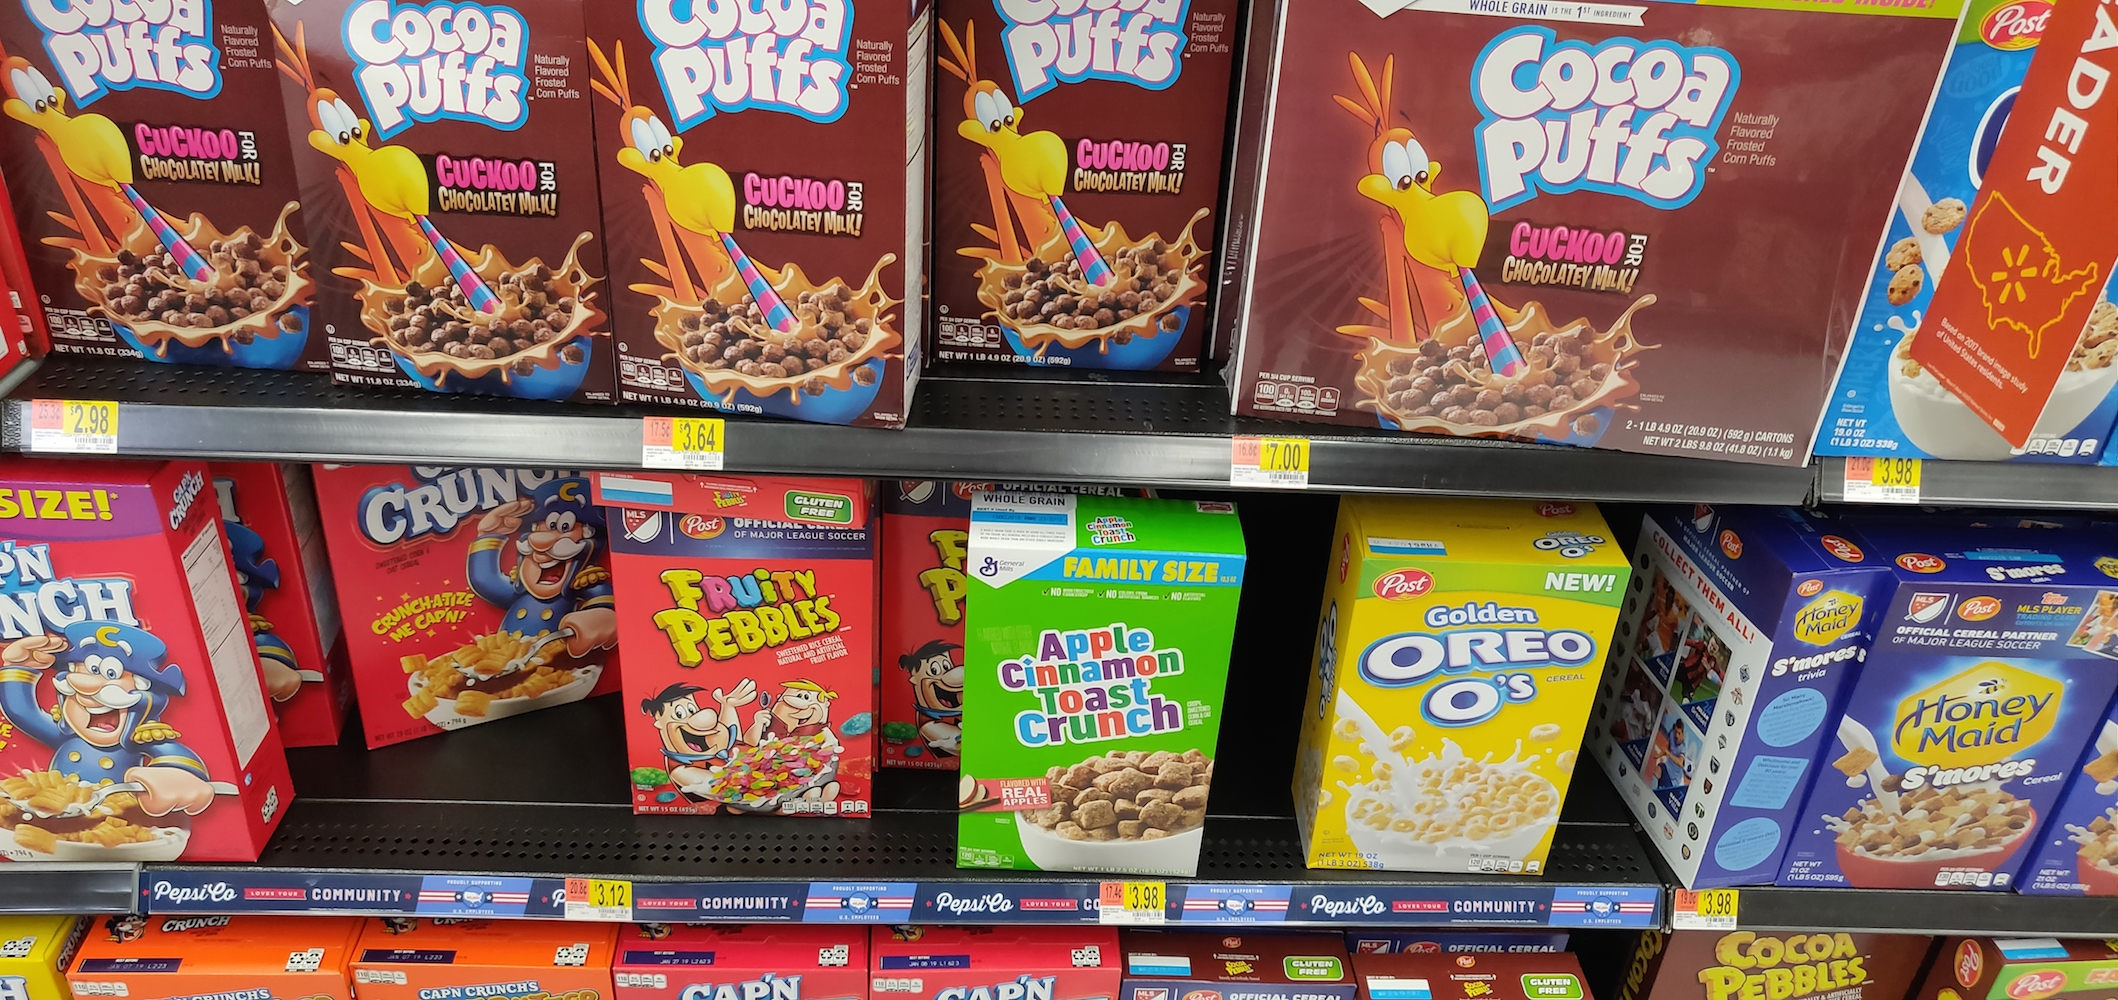Honey Maid Graham -563424385: (1826, 565, 2069, 876)
Oreo Golden-568301011: (1331, 564, 1598, 876)
